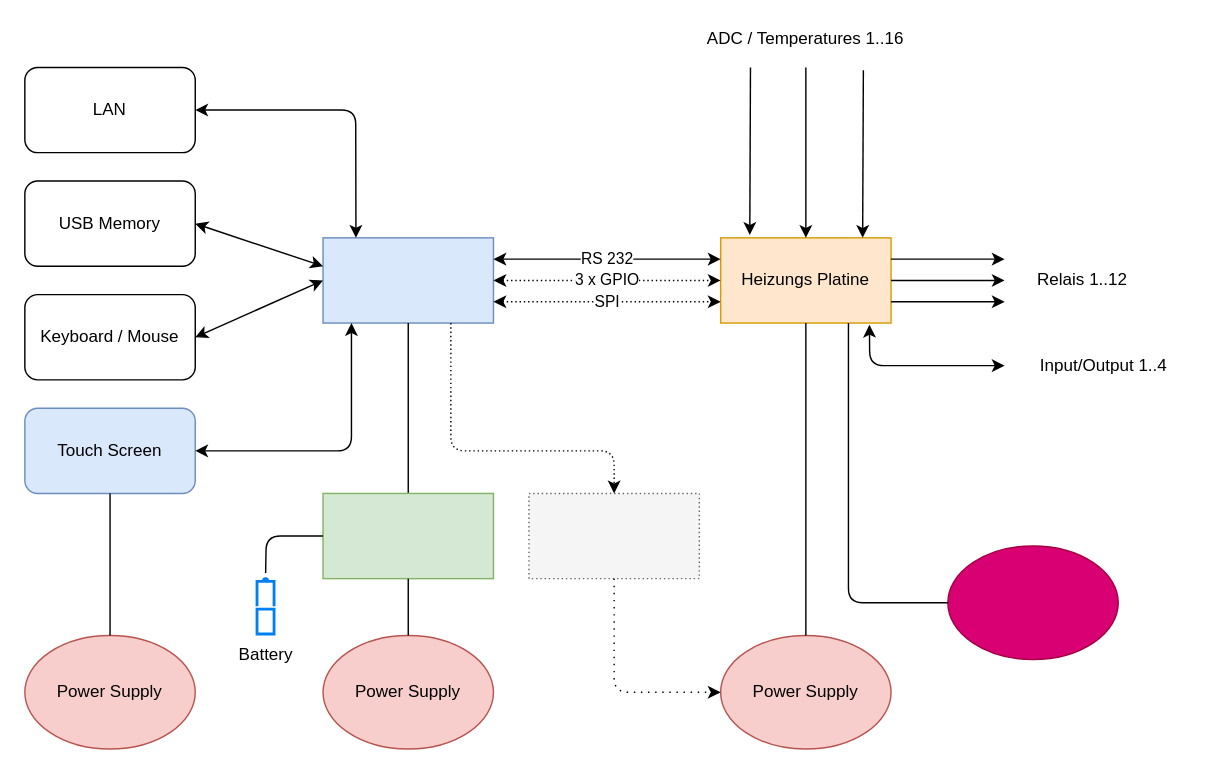
The diagram is 1214 pixels wide and 774 high, and some of its shapes have lost their labels. The shapes that lost their labels are listed below. From the top down, each one's centre as x and y in pixels, then its label:
At (x=407, y=279): "Raspberry Pi".
At (x=407, y=535): "Strom Pi".
At (x=613, y=535): "Relais".
At (x=1032, y=602): "230 Volt".
